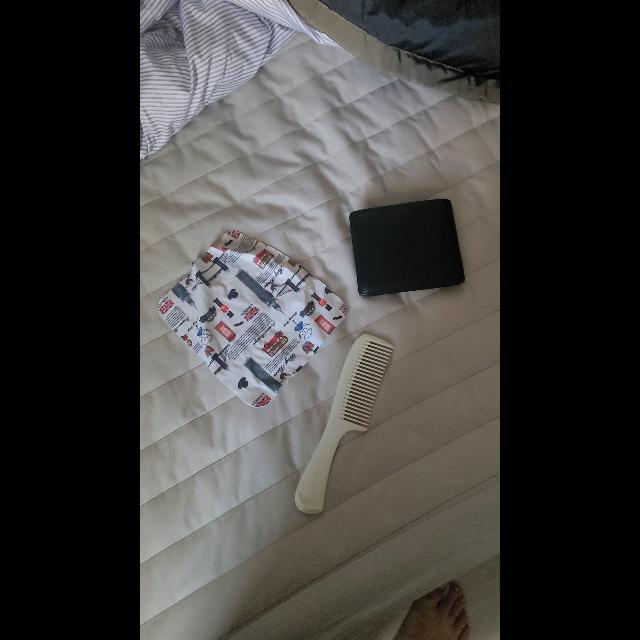COMB: (294, 333, 394, 514)
Glasses cleaning cloth: (156, 230, 348, 408)
WALLET: (349, 198, 465, 298)
